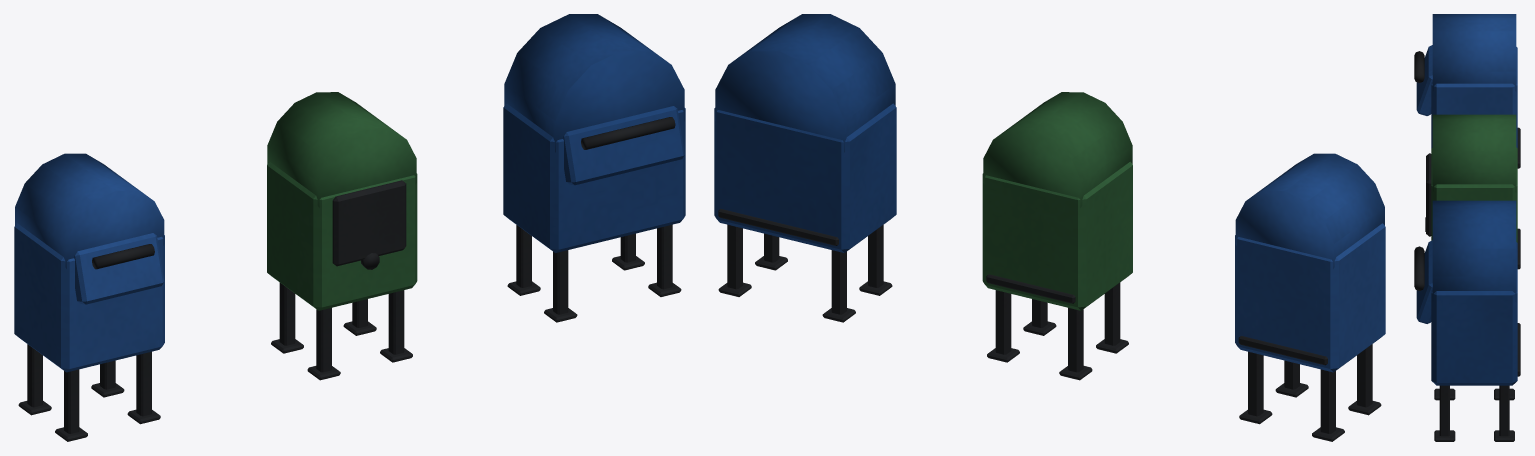
Rendered from mailbox.glb.
The picture shows the model from 3 angles, left to right: view 1: azimuth 30°, elevation 25°; view 2: azimuth 150°, elevation 25°; view 3: azimuth 270°, elevation 25°; orthographic projection. The views are drawn at different scales.
Visible parts, largest first — view 1: mailbox_v3, mailbox_v2, mailbox_v1; view 2: mailbox_v3, mailbox_v2, mailbox_v1; view 3: mailbox_v3, mailbox_v1, mailbox_v2.
Boxes of the visible parts, box(x1,y1,x2,y2) form: mailbox_v3: box(503, 14, 685, 322); mailbox_v2: box(267, 92, 417, 380); mailbox_v1: box(14, 153, 164, 441); mailbox_v3: box(714, 14, 896, 322); mailbox_v2: box(982, 92, 1132, 380); mailbox_v1: box(1235, 153, 1385, 441); mailbox_v3: box(1414, 200, 1520, 441); mailbox_v1: box(1414, 14, 1520, 168); mailbox_v2: box(1425, 114, 1520, 269).
Size of the model in its own units: 3.96 by 1.56 by 0.715.
Materials: 2 (2 with a texture image).
